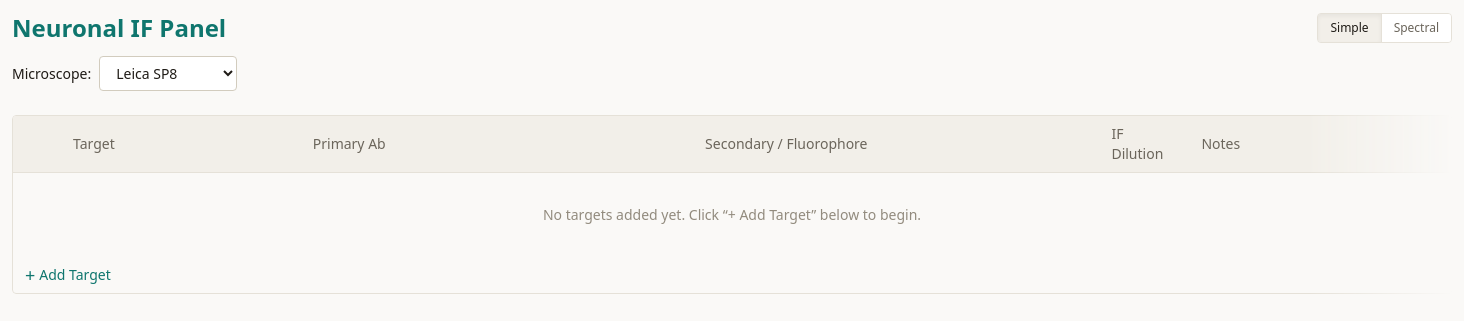
it: IFPanelDesignerView › panel name › clicking the heading enters edit mode with a text input
Click the heading "Neuronal IF Panel". click: x=119, y=28
box: [12,12,226,44]
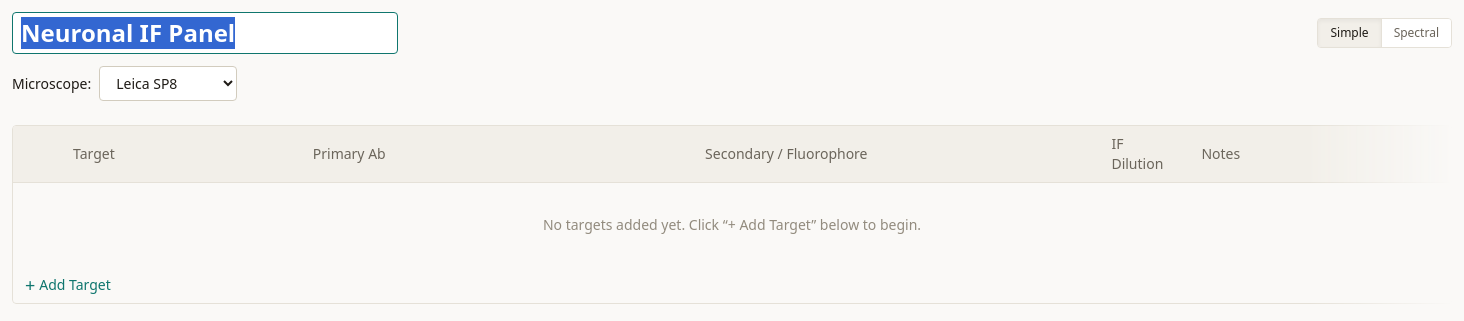
Expected: the field is shown, [12,12,398,54]
